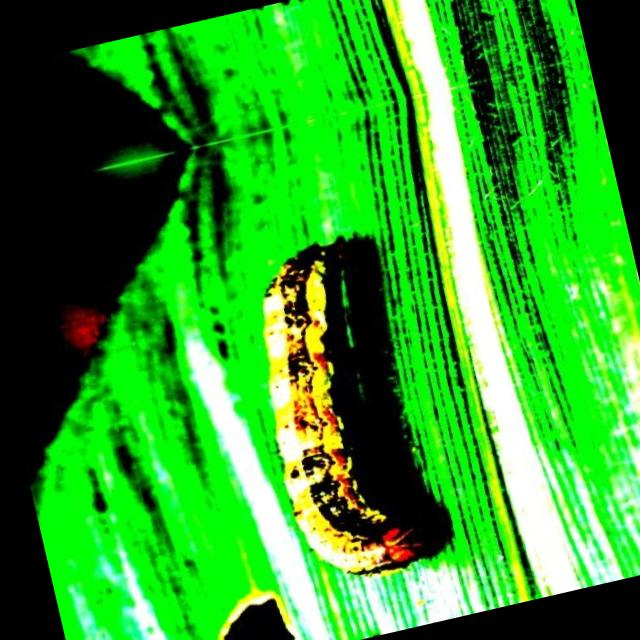Armyworm: (216, 225, 451, 598)
Armyworm_damage: (168, 578, 330, 640)
